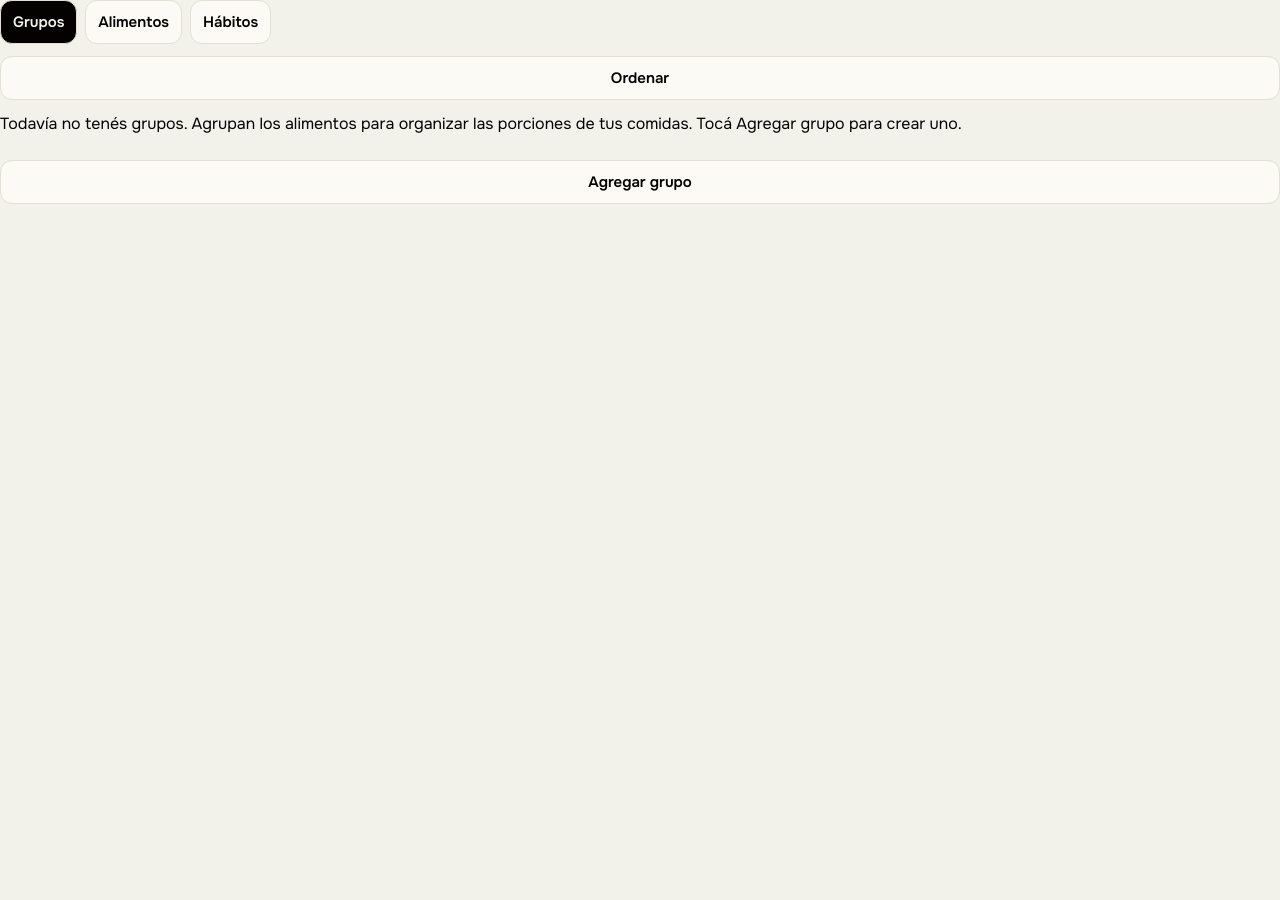
grupos y hábitos vacíos explican su uso y permiten agregar
Expected: the text "Todavía no tenés grupos" shows "Agregar grupo", [0,113,962,134]
Click the button "Agregar grupo" at (640, 182), box [0,160,1279,204]
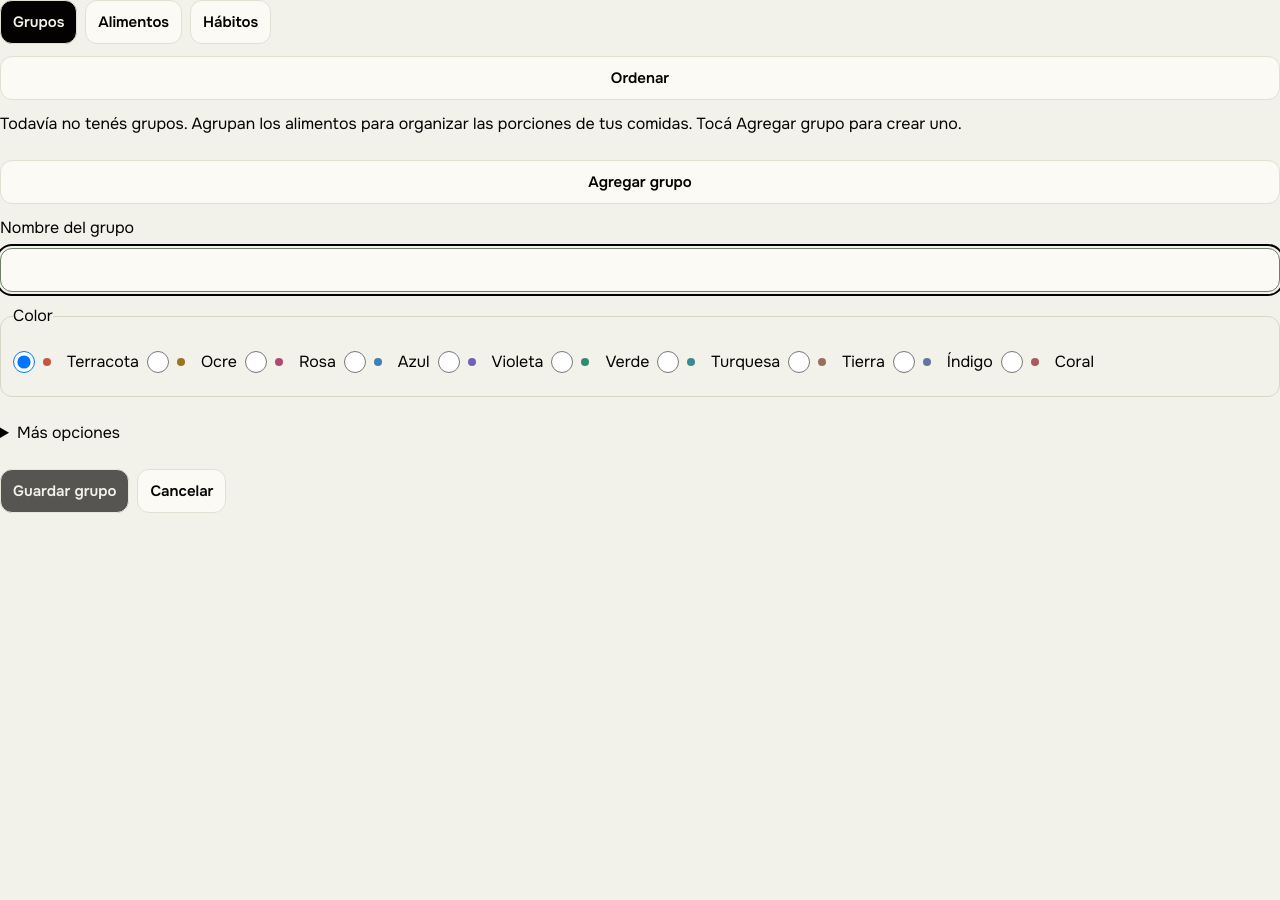
Expected: the field labelled "Nombre del grupo" is shown, [0,248,1279,292]
Click the button "Cancelar" at (182, 491), box [137,469,226,513]
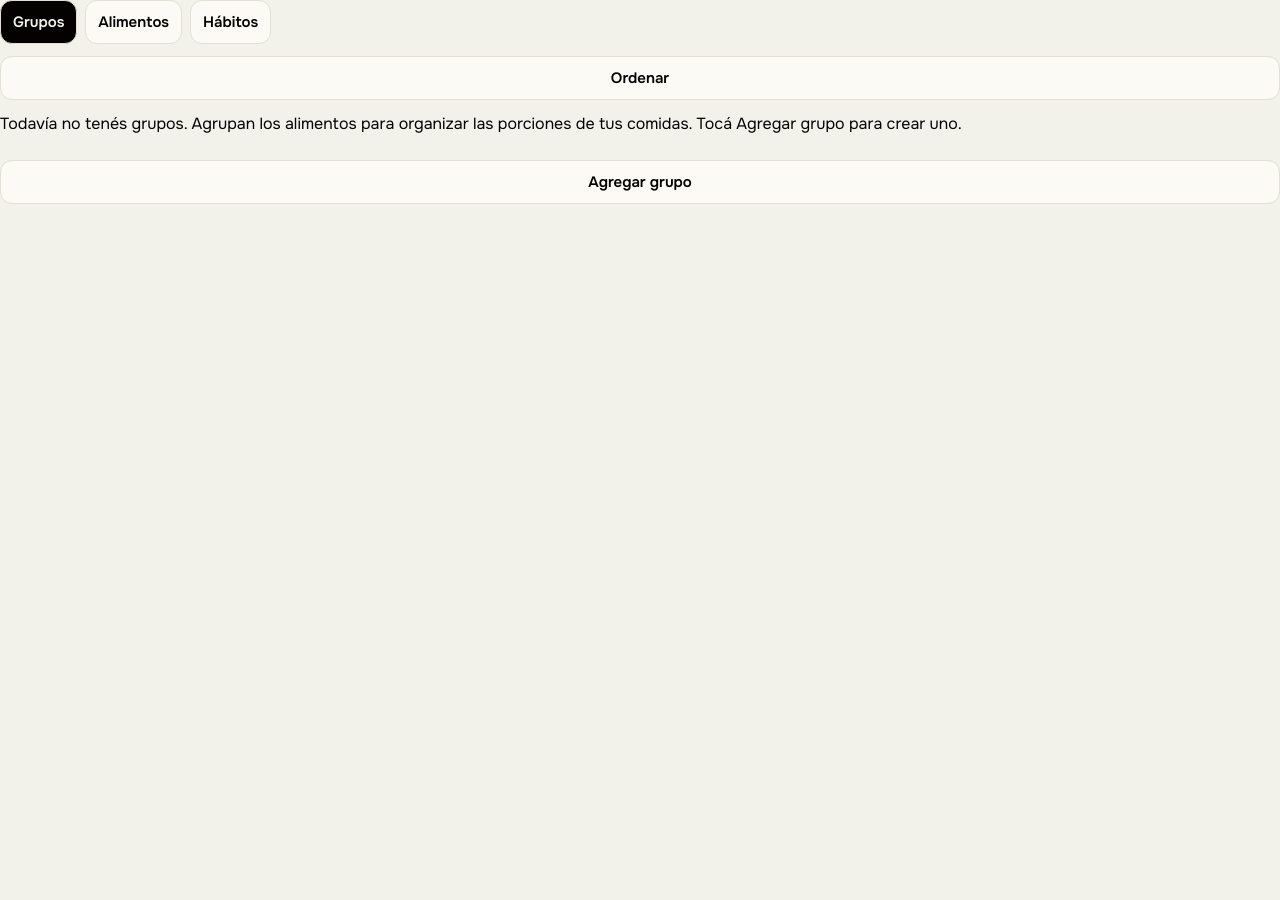
Click the button "Hábitos" at (231, 22), box [190,0,271,44]
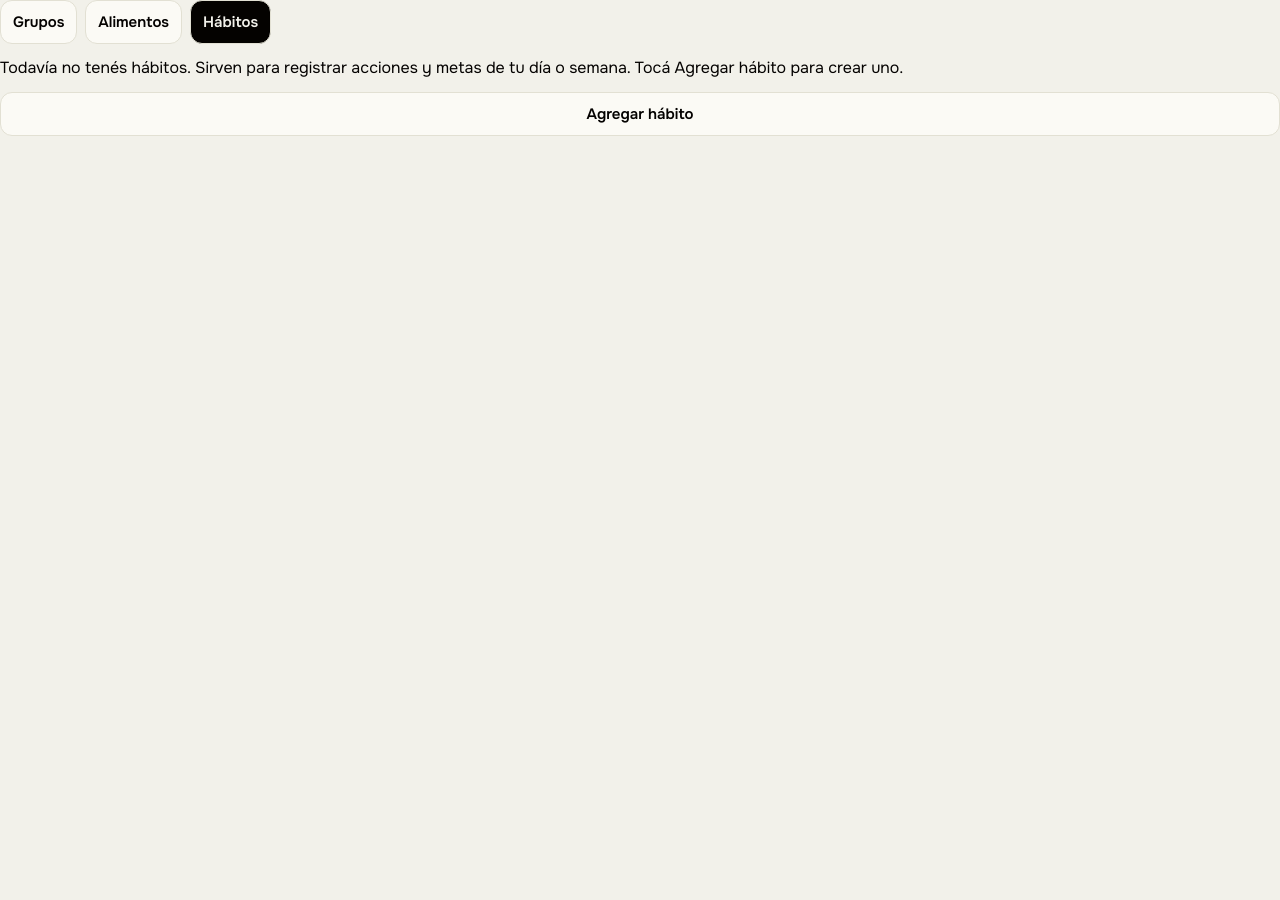
Expected: the text "Todavía no tenés hábitos" shows "Agregar hábito", [0,57,903,78]
Click the button "Agregar hábito" at (640, 114), box [0,92,1279,136]
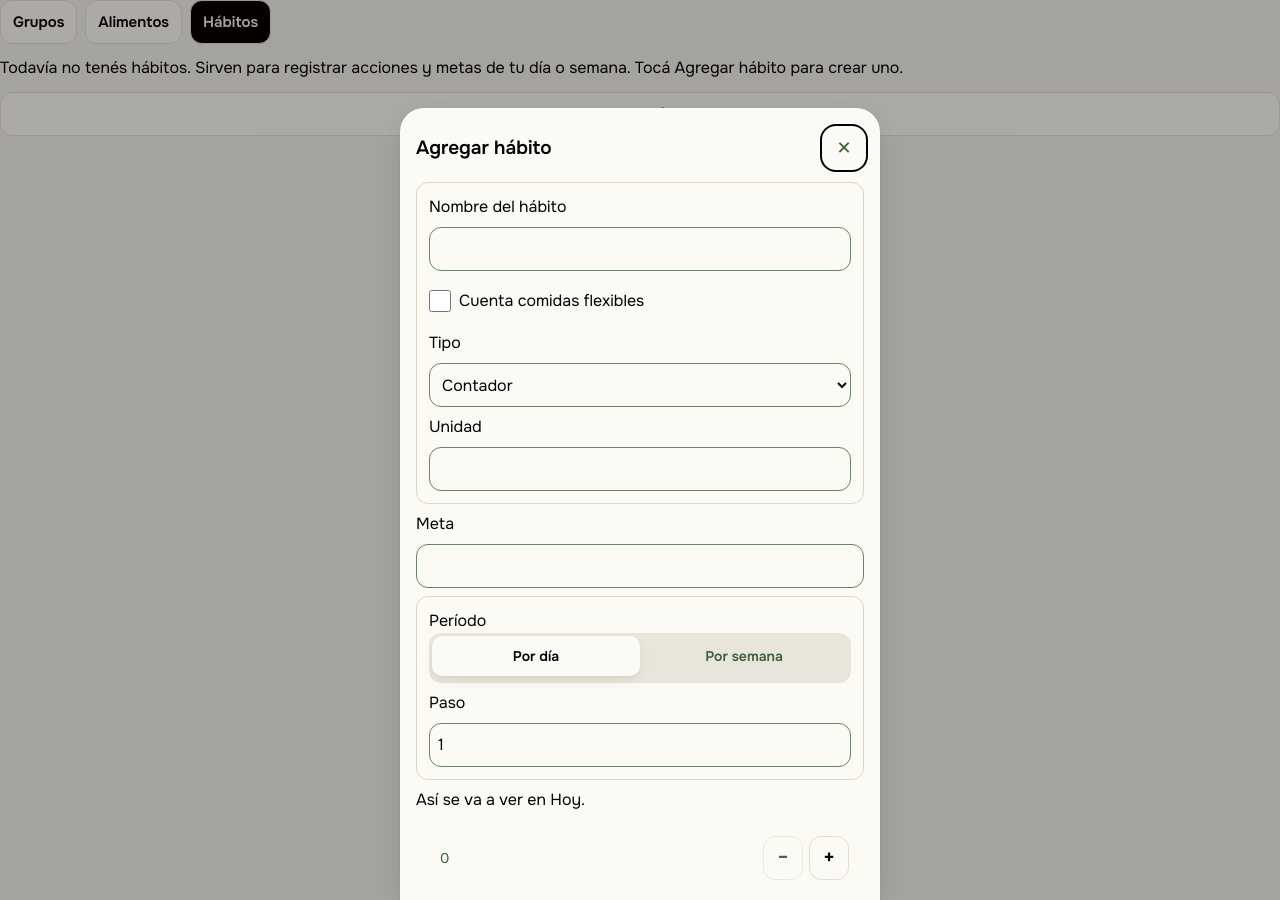
Expected: the field labelled "Nombre del hábito" is shown, [429,227,851,271]
